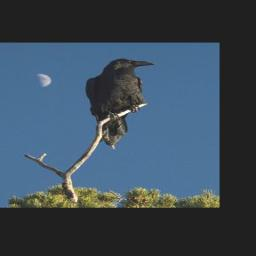Crow: (84, 58, 156, 151)
